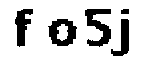5: (81, 4, 116, 48)
f: (11, 4, 38, 51)
j: (115, 6, 139, 60)
o: (45, 15, 80, 50)
